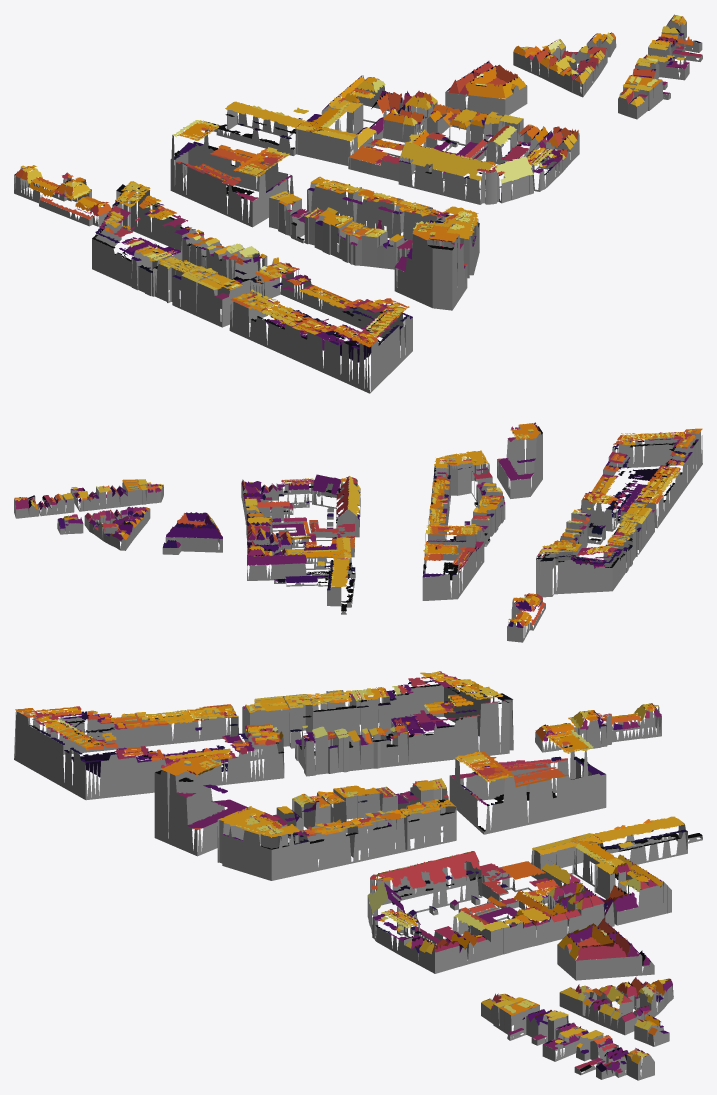
The model's file is binnenstad_84000_446000.glb.
3 views of the same model, one above another, from view 1: azimuth 30°, elevation 25°; view 2: azimuth 150°, elevation 25°; view 3: azimuth 270°, elevation 25° (orthographic). The views are drawn at different scales.
Bounding box in the file's own units: 429 × 41.47 × 343.
